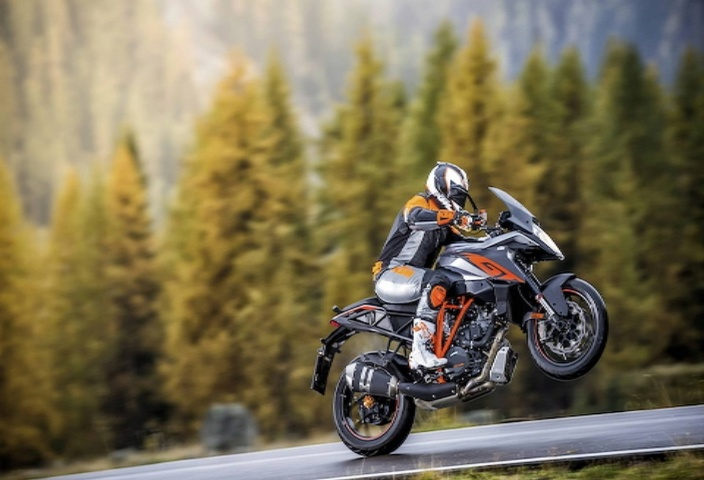motorcycle: (263, 138, 610, 467)
